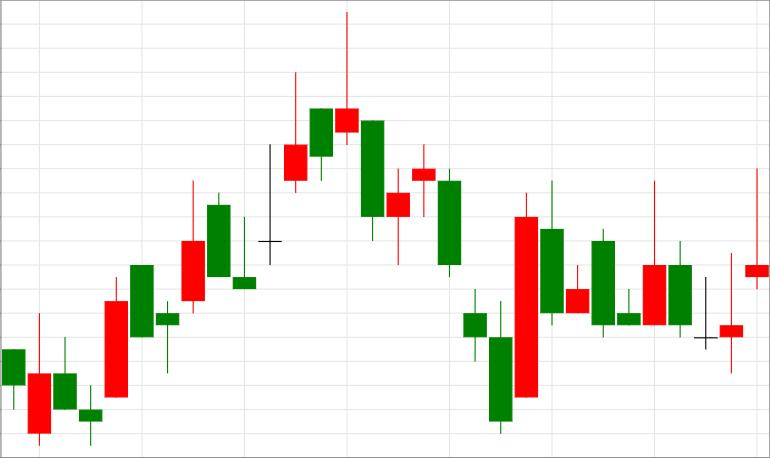shooting_star_fall: (104, 13, 358, 398), (104, 72, 307, 398)
